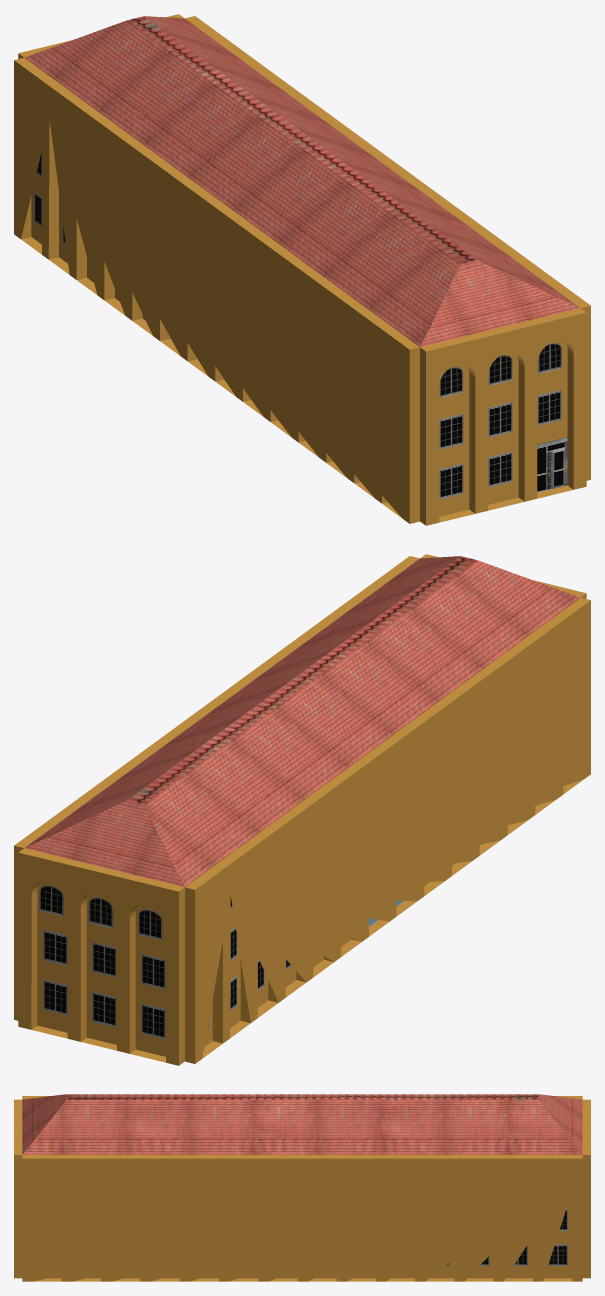
The model's file is admin_building.fbx.
The picture shows the model from 3 angles, top to bottom: view 1: azimuth 30°, elevation 25°; view 2: azimuth 150°, elevation 25°; view 3: azimuth 270°, elevation 25°; orthographic projection. The views are drawn at different scales.
Parts seen in each view (by area): view 1: Building_Base; view 2: Building_Base; view 3: Building_Base.
Boxes of the visible parts, x1=… form: Building_Base: x1=14, y1=14, x2=590, y2=525; Building_Base: x1=14, y1=554, x2=590, y2=1065; Building_Base: x1=14, y1=1094, x2=590, y2=1281.
Size of the model in its own units: 3.09 by 3.54 by 12.05.
